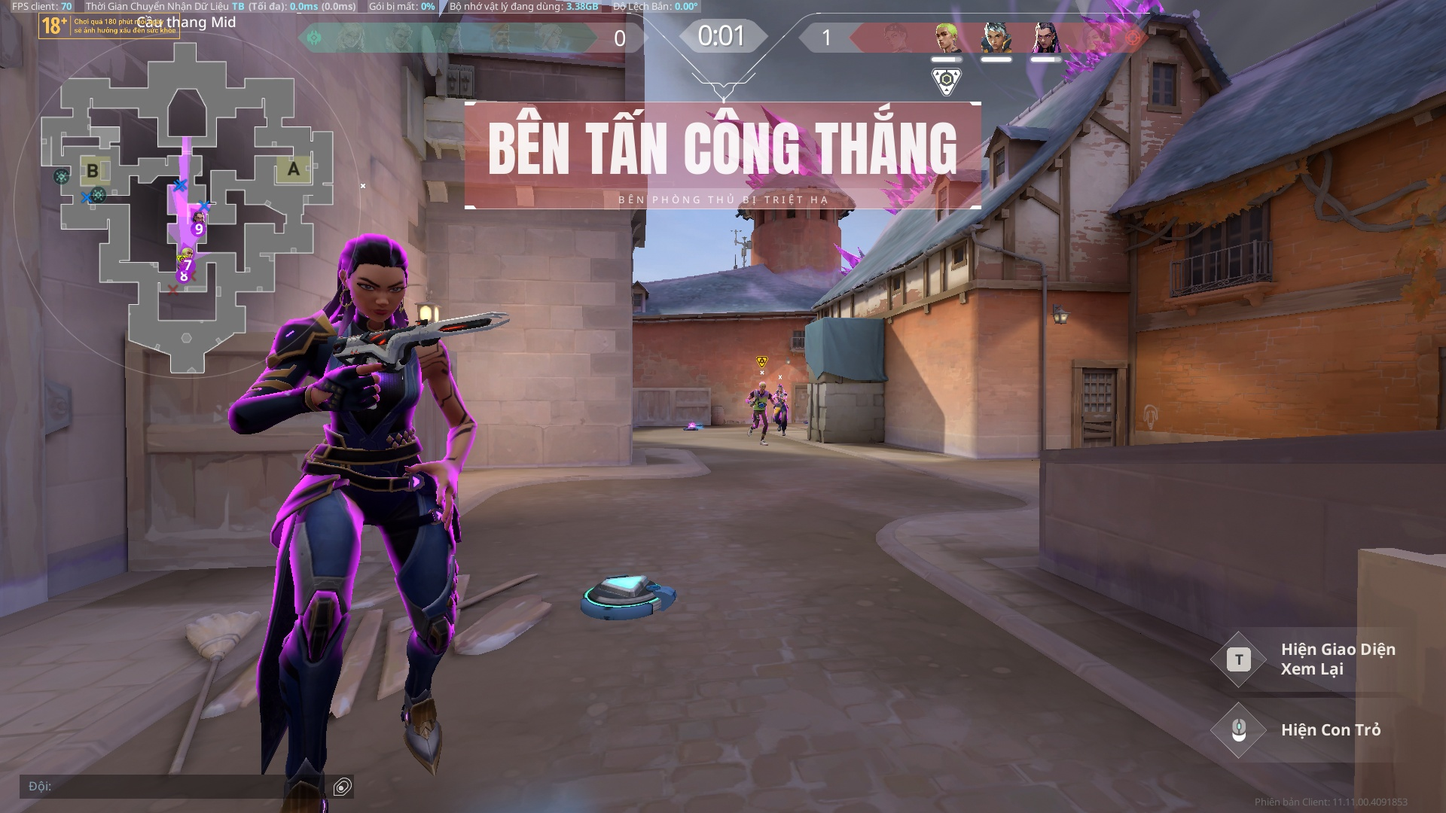body: (277, 306, 460, 448), (749, 388, 770, 408), (773, 389, 787, 405)
head: (340, 243, 430, 339), (758, 382, 767, 392), (776, 384, 785, 394)
